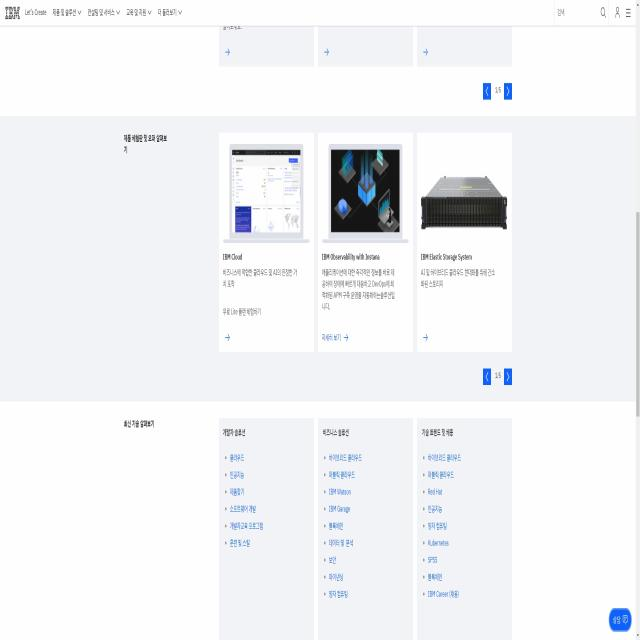menu-bar: (613, 1, 633, 22)
search: (554, 1, 610, 23)
tab-bar: (3, 4, 188, 20)
